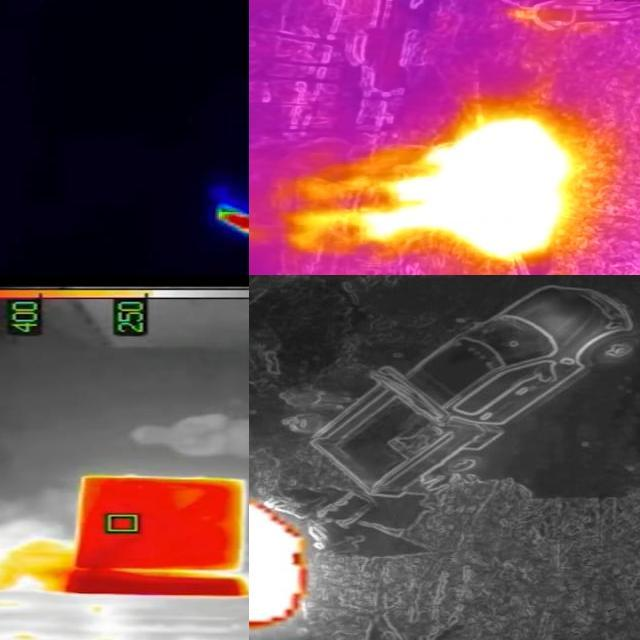fire: (356, 116, 582, 262), (250, 495, 323, 633), (1, 539, 76, 595), (207, 207, 250, 241)
